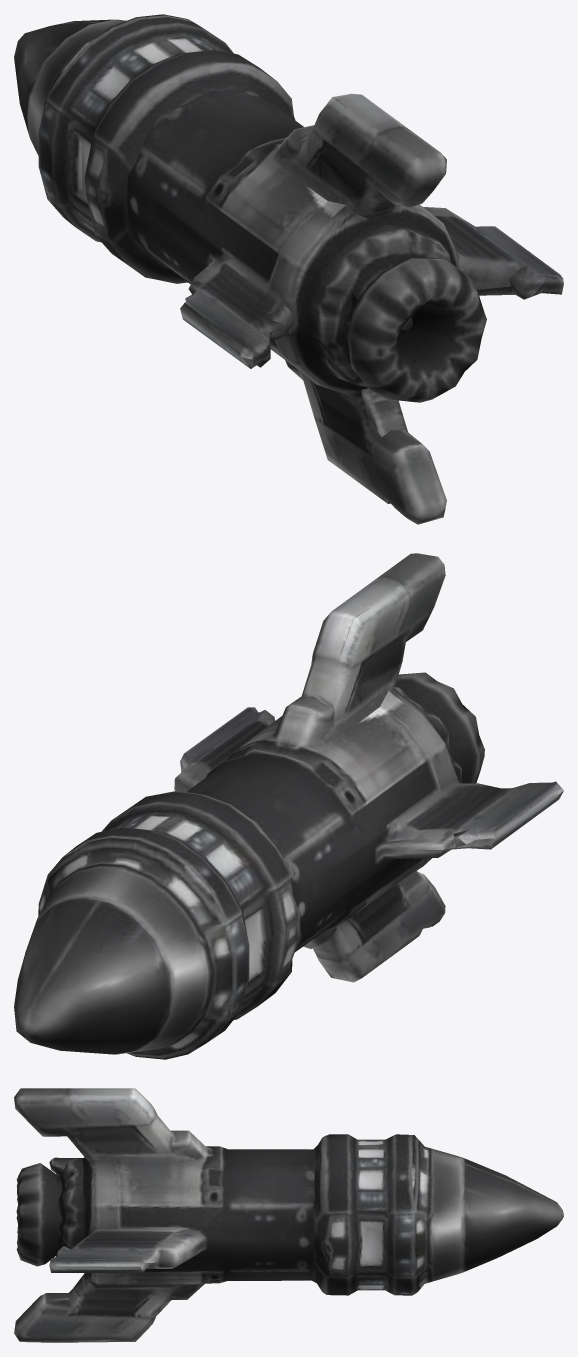
3 views of the same model, one above another, from view 1: azimuth 30°, elevation 25°; view 2: azimuth 150°, elevation 25°; view 3: azimuth 270°, elevation 25° (orthographic). The views are drawn at different scales.
Visible parts, largest first — view 1: body; view 2: body; view 3: body.
Boxes of the visible parts, bbox=[...] form: body: bbox=[14, 14, 563, 524]; body: bbox=[14, 553, 563, 1059]; body: bbox=[14, 1088, 563, 1342].
Bounding box in the file's own units: 0.425 × 0.4662 × 0.9301.
1 material, 1 textured.
